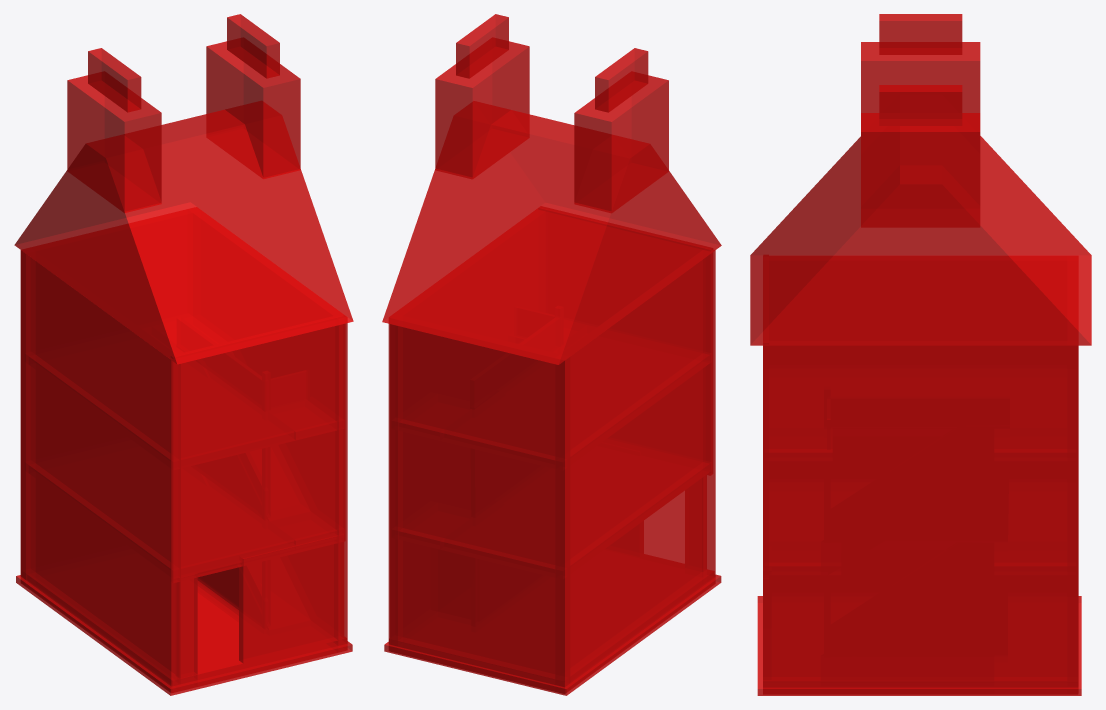
The model's file is SM_Bld_City_Preset_06_Collision.fbx.
3 renders of one model, left to right at view 1: azimuth 30°, elevation 25°; view 2: azimuth 150°, elevation 25°; view 3: azimuth 270°, elevation 25°, orthographic. The views are drawn at different scales.
Visible parts, largest first — view 1: SM_Bld_City_Preset_06_Collision; view 2: SM_Bld_City_Preset_06_Collision; view 3: SM_Bld_City_Preset_06_Collision.
Boxes of the visible parts, bbox=[...] form: SM_Bld_City_Preset_06_Collision: bbox=[14, 14, 353, 695]; SM_Bld_City_Preset_06_Collision: bbox=[382, 14, 721, 695]; SM_Bld_City_Preset_06_Collision: bbox=[750, 14, 1091, 695].
Bounding box in the file's own units: 527 × 1574 × 817.
